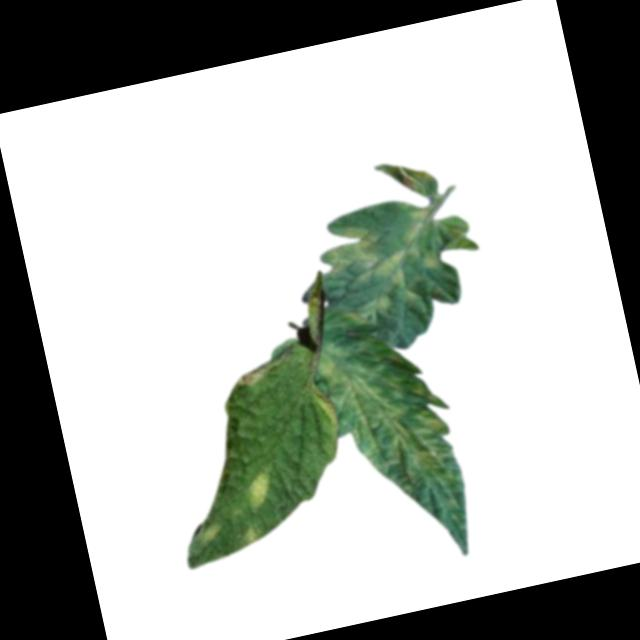Leaf_Mold: (308, 314, 483, 579), (316, 208, 449, 334), (233, 357, 289, 388), (244, 469, 280, 507), (196, 519, 226, 552)
